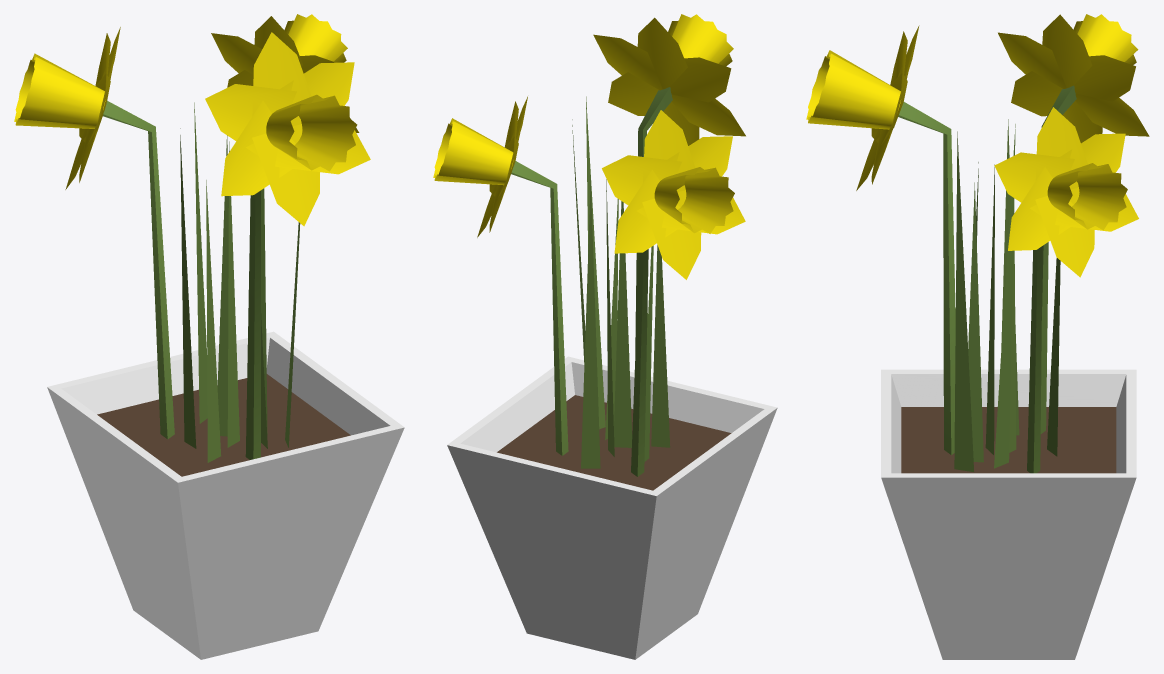
3 views of the same model, side by side, from view 1: azimuth 30°, elevation 25°; view 2: azimuth 150°, elevation 25°; view 3: azimuth 270°, elevation 25° (orthographic). The views are drawn at different scales.
Visible parts, largest first — view 1: Pot, Daffodil_Center, Daffodil_Center_3, Stem, Stem_3, Petal_Instance_4_3, Petal_Instance_5_3, Petal_Instance_3_3, Petal_3, Blade_1_2, Blade_3, Blade_2_3 (+9 smaller); view 2: Pot, Daffodil_Center, Daffodil_Center_2, Stem_2, Blade_3_2, Stem, Blade, Blade_1_2, Daffodil_Center_3, Petal_Instance_4, Petal_Instance_5, Petal_Instance_3 (+15 smaller); view 3: Pot, Daffodil_Center_3, Stem_3, Daffodil_Center_2, Blade_2_2, Stem_2, Blade_2, Blade_1, Petal_Instance_5_2, Petal_Instance_4_2, Petal_Instance_3_2, Petal (+14 smaller).
Part boxes in pixels (x1=…): Pot: x1=47, y1=331, x2=404, y2=659; Daffodil_Center: x1=14, y1=53, x2=105, y2=128; Daffodil_Center_3: x1=266, y1=94, x2=357, y2=171; Stem: x1=103, y1=101, x2=174, y2=439; Stem_3: x1=245, y1=190, x2=260, y2=459; Petal_Instance_4_3: x1=221, y1=100, x2=292, y2=196; Petal_Instance_5_3: x1=205, y1=84, x2=296, y2=155; Petal_Instance_3_3: x1=252, y1=133, x2=319, y2=226; Petal_3: x1=252, y1=32, x2=311, y2=126; Blade_1_2: x1=206, y1=180, x2=221, y2=462; Blade_3: x1=180, y1=128, x2=196, y2=448; Blade_2_3: x1=217, y1=135, x2=228, y2=436; Pot: x1=447, y1=356, x2=777, y2=659; Daffodil_Center: x1=654, y1=167, x2=734, y2=233; Daffodil_Center_2: x1=433, y1=118, x2=513, y2=185; Stem_2: x1=511, y1=161, x2=568, y2=455; Blade_3_2: x1=581, y1=179, x2=600, y2=468; Stem: x1=631, y1=249, x2=648, y2=476; Blade: x1=614, y1=201, x2=632, y2=447; Blade_1_2: x1=651, y1=245, x2=670, y2=447; Daffodil_Center_3: x1=668, y1=14, x2=733, y2=66; Petal_Instance_4: x1=614, y1=169, x2=676, y2=253; Petal_Instance_5: x1=602, y1=155, x2=681, y2=218; Petal_Instance_3: x1=642, y1=198, x2=701, y2=279; Pot: x1=881, y1=369, x2=1136, y2=659; Daffodil_Center_3: x1=806, y1=50, x2=900, y2=129; Stem_3: x1=898, y1=102, x2=955, y2=454; Daffodil_Center_2: x1=1047, y1=163, x2=1127, y2=230; Blade_2_2: x1=954, y1=131, x2=973, y2=471; Stem_2: x1=1027, y1=246, x2=1042, y2=473; Blade_2: x1=994, y1=124, x2=1015, y2=468; Blade_1: x1=968, y1=182, x2=983, y2=462; Petal_Instance_5_2: x1=994, y1=152, x2=1074, y2=215; Petal_Instance_4_2: x1=1008, y1=167, x2=1069, y2=250; Petal_Instance_3_2: x1=1035, y1=196, x2=1094, y2=277; Petal: x1=1042, y1=14, x2=1092, y2=87.
Size of the model in its own units: 898 by 1652 by 847.
